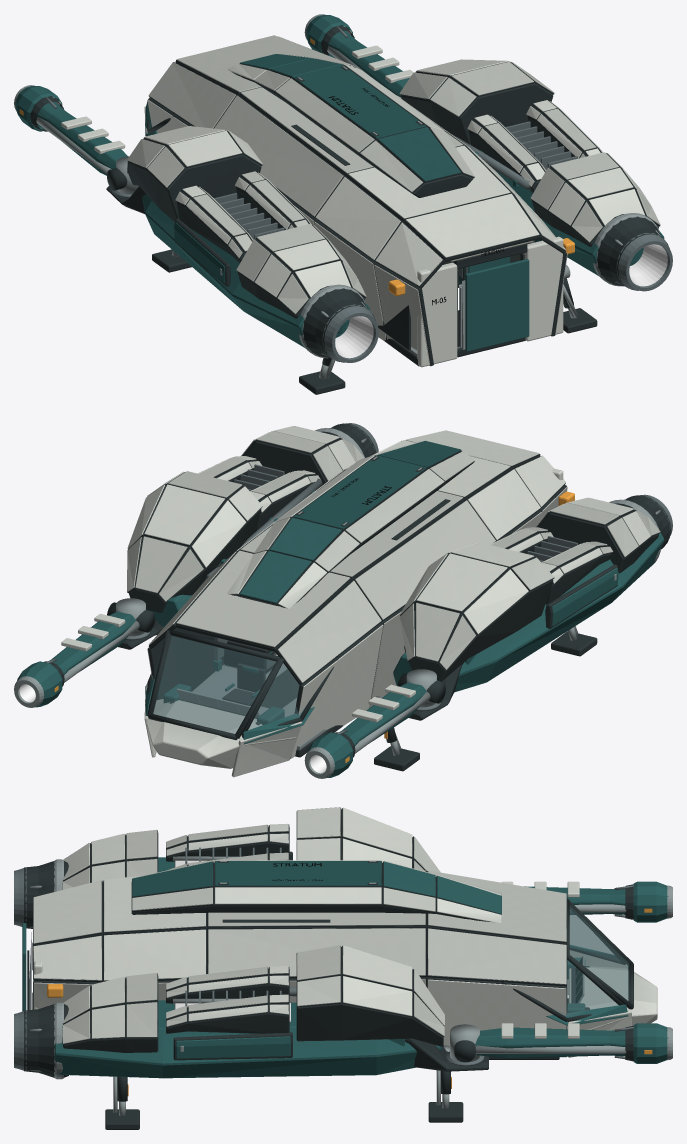
The model's file is stratum.glb.
The picture shows the model from 3 angles, top to bottom: view 1: azimuth 30°, elevation 25°; view 2: azimuth 150°, elevation 25°; view 3: azimuth 270°, elevation 25°; orthographic projection.
Visible parts, largest first — view 1: Stratum_Static__ivory_enamel Geometry, Stratum_Static__graphite_frame Geometry, Stratum_Static__petrol_service Geometry, Stratum_Static__anodized_trim Geometry, Ramp outer hatch armor, MiningPitch_Port__petrol_service, Stratum_Static__bore_interior Geometry, MiningPitch_Starboard__petrol_service, Stratum_Static__brushed_mechanisms Geometry, Gear_Aft_Port__graphite_frame, MiningPitch_Port__ivory_enamel, MiningPitch_Starboard__ivory_enamel (+3 smaller); view 2: Stratum_Static__ivory_enamel Geometry, Stratum_Static__graphite_frame Geometry, Stratum_Static__petrol_service Geometry, Stratum_Static__protective_glazing, Stratum_Static__anodized_trim Geometry, MiningPitch_Starboard__petrol_service, MiningPitch_Port__petrol_service, Stratum_Static__soft_interior Geometry, Stratum_Static__brushed_mechanisms Geometry, MiningPitch_Port__brushed_mechanisms, MiningPitch_Starboard__brushed_mechanisms, Gear_Fore_Port__graphite_frame (+3 smaller); view 3: Stratum_Static__ivory_enamel Geometry, Stratum_Static__graphite_frame Geometry, Stratum_Static__petrol_service Geometry, Stratum_Static__protective_glazing, MiningPitch_Starboard__petrol_service, MiningPitch_Port__petrol_service, Stratum_Static__anodized_trim Geometry, Stratum_Static__brushed_mechanisms Geometry, MiningPitch_Starboard__brushed_mechanisms, Gear_Fore_Starboard__graphite_frame, Gear_Aft_Starboard__graphite_frame, MiningPitch_Starboard__graphite_frame (+3 smaller).
Part boxes in pixels (box(x1,y1,x2,y2)): Stratum_Static__ivory_enamel Geometry: box(127, 35, 660, 367); Stratum_Static__graphite_frame Geometry: box(106, 60, 669, 366); Stratum_Static__petrol_service Geometry: box(142, 54, 664, 349); Stratum_Static__anodized_trim Geometry: box(111, 121, 672, 362); Ramp outer hatch armor: box(465, 259, 529, 351); MiningPitch_Port__petrol_service: box(15, 86, 127, 175); Stratum_Static__bore_interior Geometry: box(335, 244, 667, 358); MiningPitch_Starboard__petrol_service: box(306, 15, 409, 97); Stratum_Static__brushed_mechanisms Geometry: box(220, 66, 660, 358); Gear_Aft_Port__graphite_frame: box(299, 358, 345, 394); MiningPitch_Port__ivory_enamel: box(53, 97, 125, 153); MiningPitch_Starboard__ivory_enamel: box(343, 26, 413, 83); Stratum_Static__ivory_enamel Geometry: box(127, 426, 660, 777); Stratum_Static__graphite_frame Geometry: box(118, 423, 670, 758); Stratum_Static__petrol_service Geometry: box(145, 440, 664, 744); Stratum_Static__protective_glazing: box(150, 636, 306, 733); Stratum_Static__anodized_trim Geometry: box(125, 423, 672, 711); MiningPitch_Starboard__petrol_service: box(17, 611, 135, 707); MiningPitch_Port__petrol_service: box(307, 682, 426, 777); Stratum_Static__soft_interior Geometry: box(222, 640, 299, 708); Stratum_Static__brushed_mechanisms Geometry: box(192, 428, 660, 750); MiningPitch_Port__brushed_mechanisms: box(304, 692, 430, 778); MiningPitch_Starboard__brushed_mechanisms: box(14, 620, 139, 707); Gear_Fore_Port__graphite_frame: box(374, 727, 419, 771); Stratum_Static__ivory_enamel Geometry: box(33, 807, 657, 1057); Stratum_Static__graphite_frame Geometry: box(24, 808, 633, 1077); Stratum_Static__petrol_service Geometry: box(54, 857, 628, 1078); Stratum_Static__protective_glazing: box(554, 906, 629, 1017); MiningPitch_Starboard__petrol_service: box(475, 1023, 668, 1063); MiningPitch_Port__petrol_service: box(524, 881, 668, 922); Stratum_Static__anodized_trim Geometry: box(14, 847, 484, 1071); Stratum_Static__brushed_mechanisms Geometry: box(30, 856, 449, 1079); MiningPitch_Starboard__brushed_mechanisms: box(475, 1027, 672, 1060); Gear_Fore_Starboard__graphite_frame: box(428, 1071, 463, 1122); Gear_Aft_Starboard__graphite_frame: box(105, 1076, 139, 1129); MiningPitch_Starboard__graphite_frame: box(454, 1026, 633, 1062).
Size of the model in its own units: 11.83 by 5.44 by 17.12.
12 materials, 10 textured.
